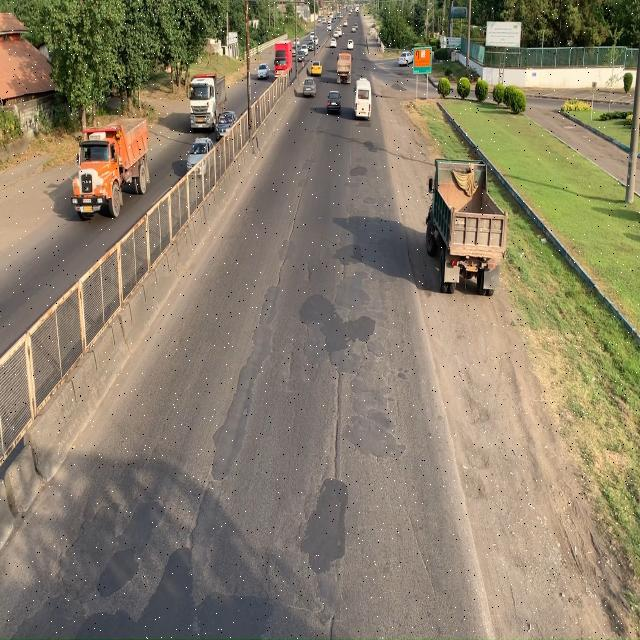Truck: (424, 156, 508, 298), (71, 116, 149, 216), (188, 72, 224, 130)
cars: (186, 136, 215, 179)
